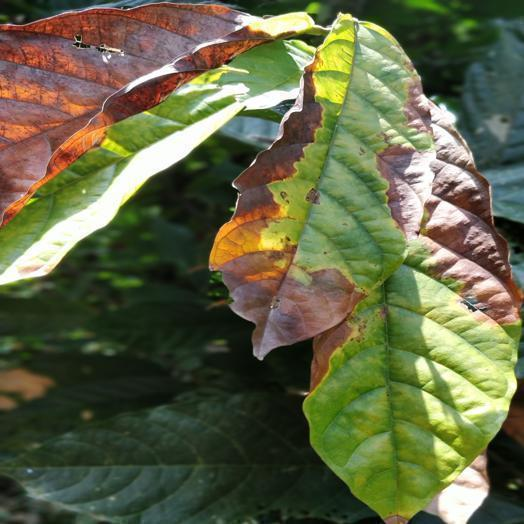Potassium: (305, 99, 520, 522), (210, 15, 433, 358)
